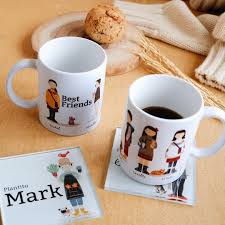mug: (122, 65, 225, 221), (1, 40, 118, 151)
